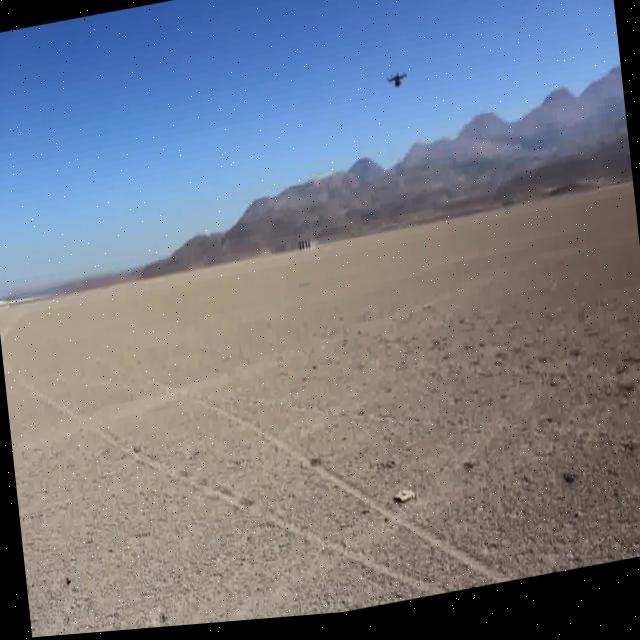drone: (380, 69, 410, 98)
